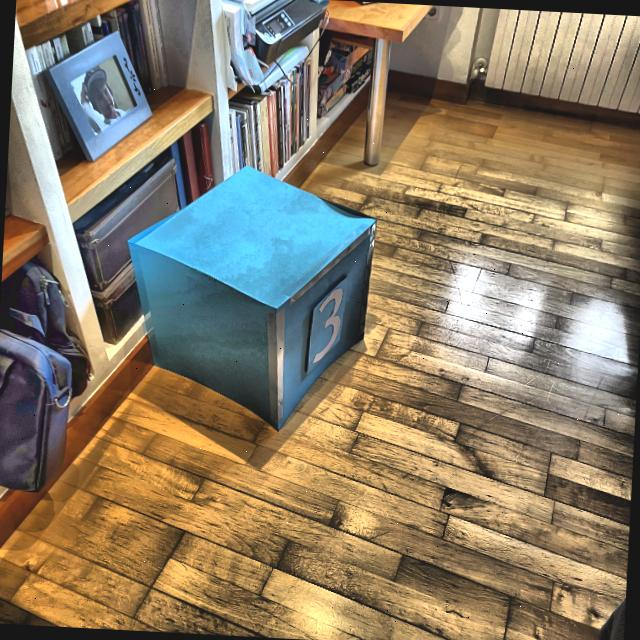blue box: (114, 156, 378, 438)
three: (309, 285, 346, 369)
